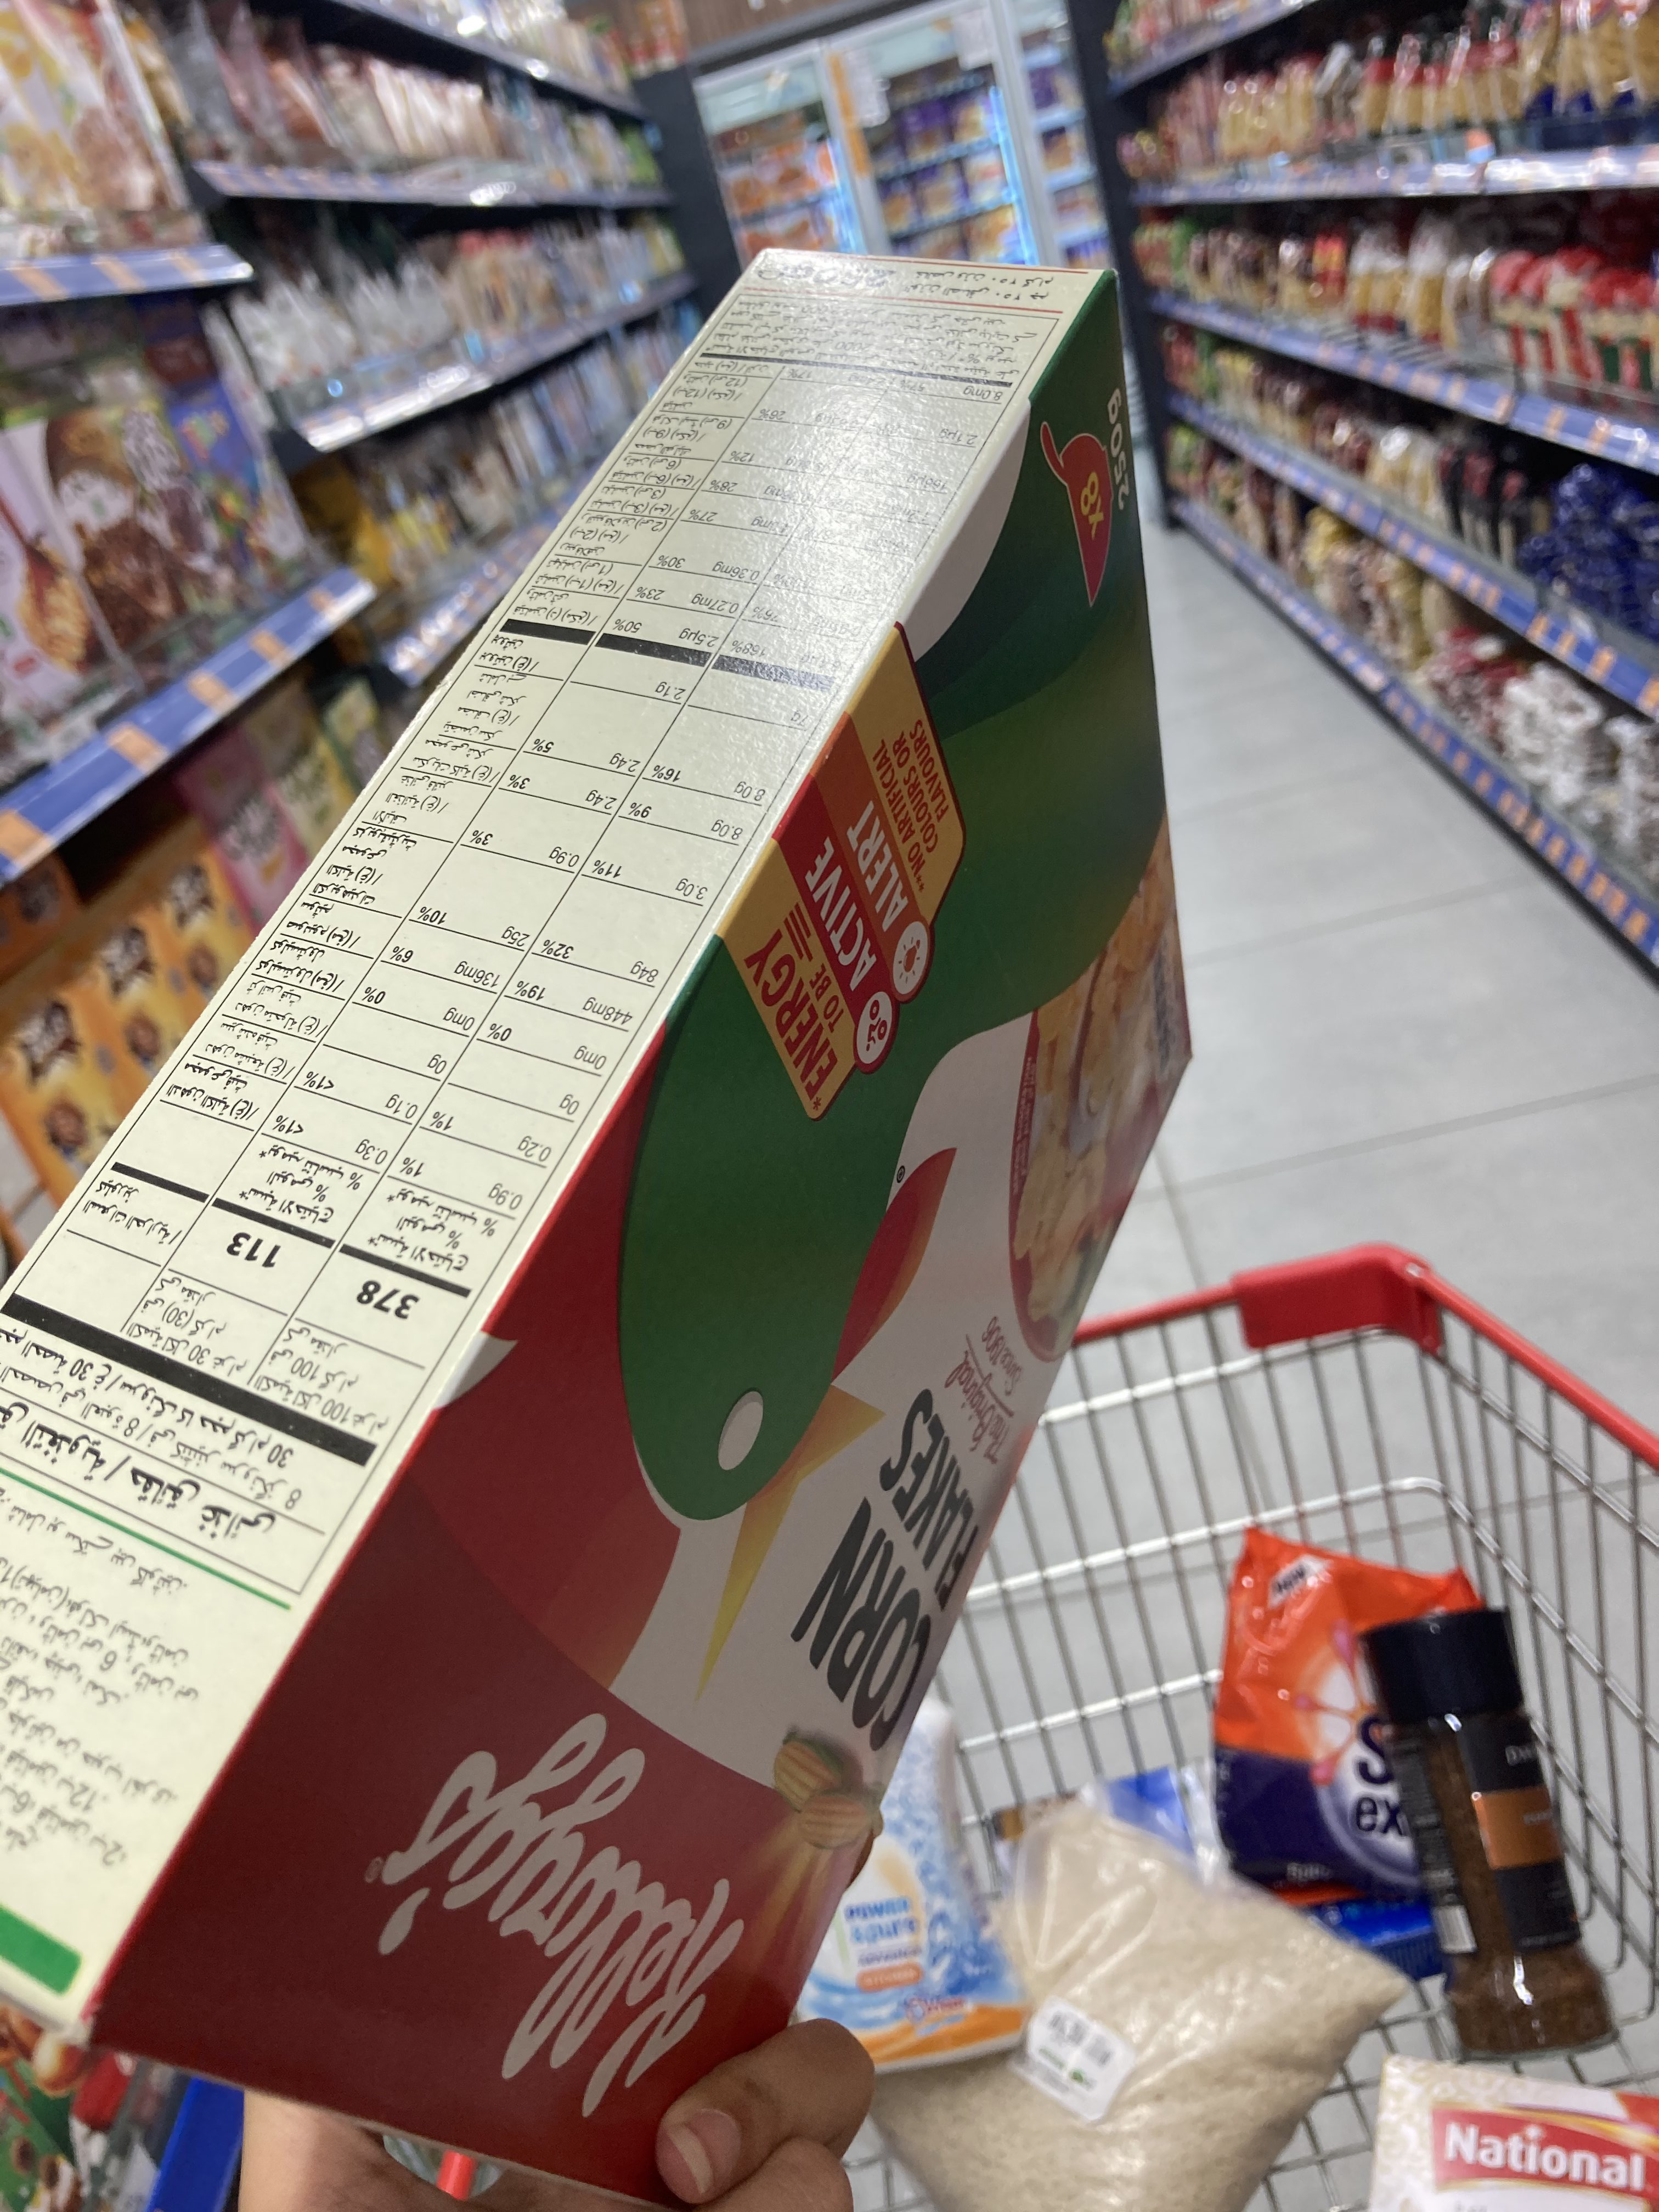Kellogg's Corn Flakes: (12, 242, 1194, 2203)
